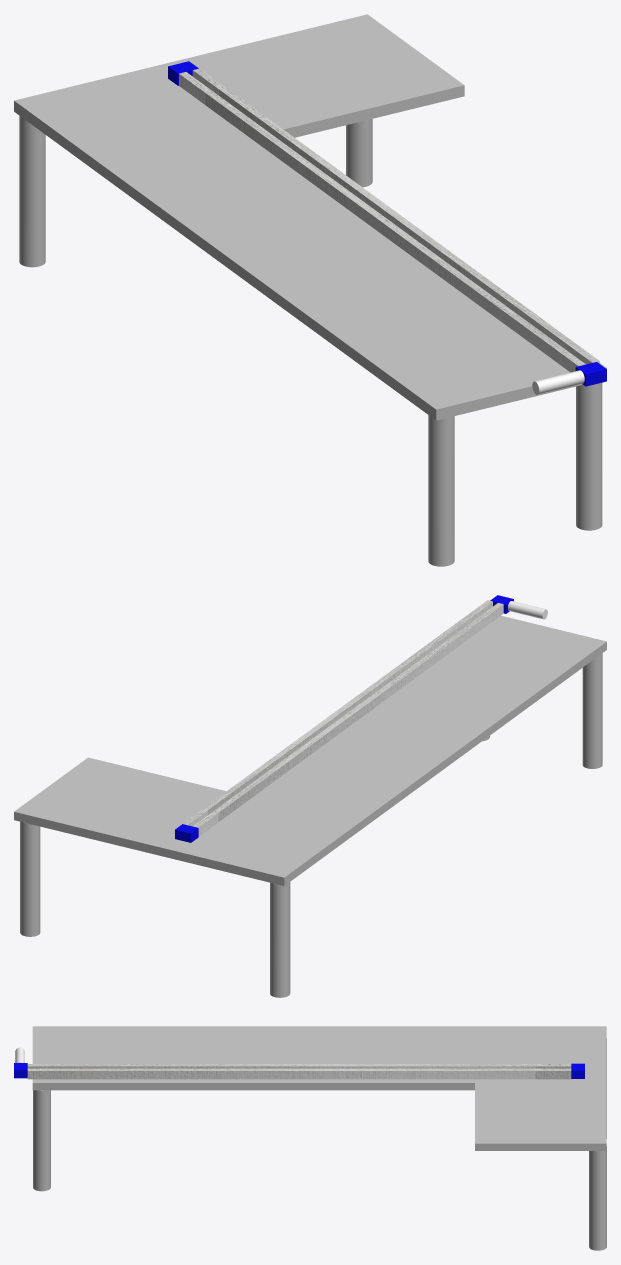
Rendered from table+rail.dae.
3 views of the same model, one above another, from view 1: azimuth 30°, elevation 25°; view 2: azimuth 150°, elevation 25°; view 3: azimuth 270°, elevation 25° (orthographic). The views are drawn at different scales.
Parts seen in each view (by area): view 1: table_top, Component_1, leg1 (×4), Component_3, motor; view 2: table_top, Component_1, Component_3, leg1 (×3); view 3: table_top, Component_1, Component_3, leg1 (×2).
Boxes of the visible parts, x1,y1,x2,y2 form: table_top: (14, 59, 606, 420); Component_1: (185, 14, 464, 137); leg1 (×4): (19, 116, 602, 566); Component_3: (179, 68, 599, 372); motor: (532, 370, 584, 394); table_top: (153, 615, 606, 885); Component_1: (14, 757, 226, 853); Component_3: (182, 600, 503, 836); leg1 (×3): (20, 653, 602, 997); table_top: (32, 1026, 606, 1090); Component_1: (475, 1083, 606, 1150); Component_3: (27, 1064, 571, 1079); leg1 (×2): (33, 1090, 606, 1250).
Bounding box in the file's own units: 75.39 × 161 × 35.05.
